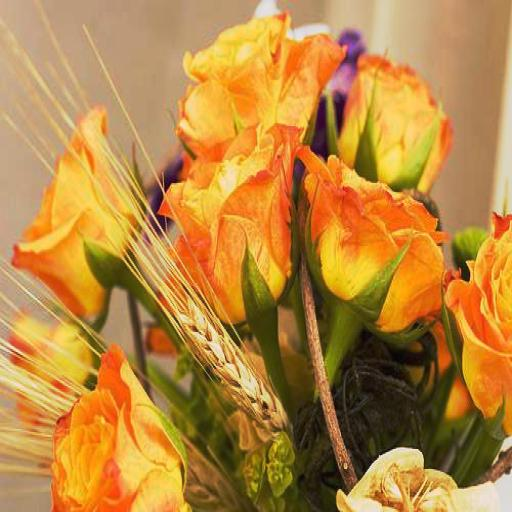rose: (296, 131, 445, 338), (156, 124, 302, 328), (14, 103, 146, 328), (49, 343, 191, 512), (176, 10, 345, 144), (332, 52, 452, 192), (442, 217, 512, 441)
